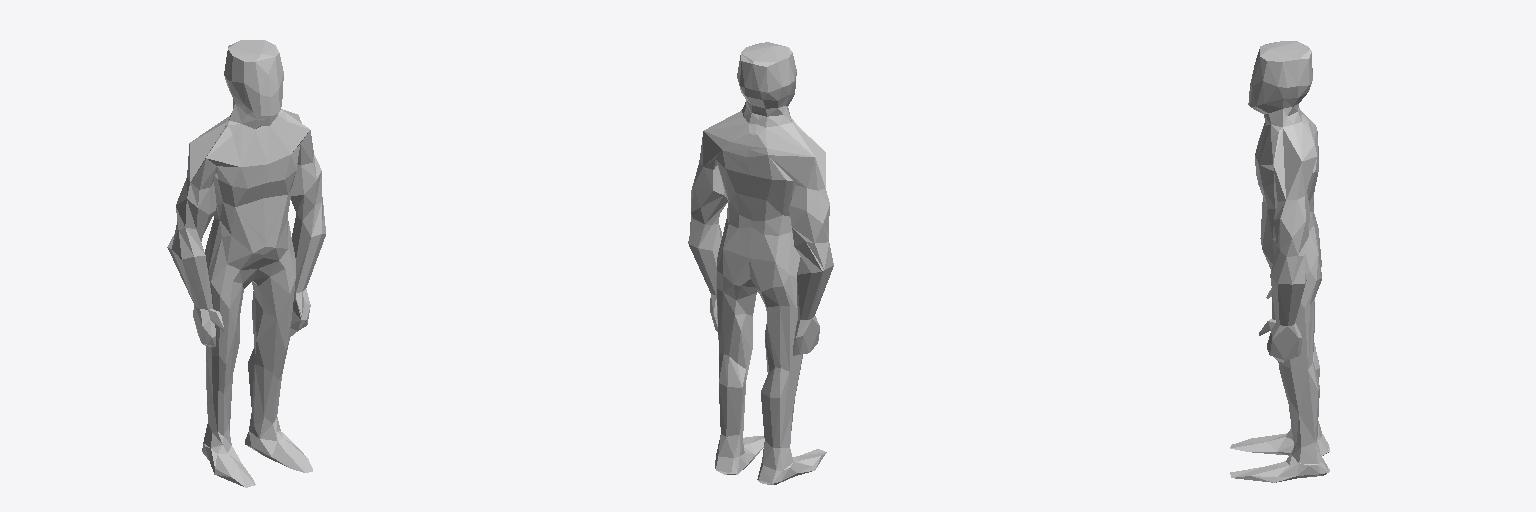
File: goodman_idle.obj
The picture shows the model from 3 angles: view 1: azimuth 30°, elevation 25°; view 2: azimuth 150°, elevation 25°; view 3: azimuth 270°, elevation 25°; orthographic projection.
Parts seen in each view (by area): view 1: body_mesh_Sphere; view 2: body_mesh_Sphere; view 3: body_mesh_Sphere.
Boxes of the visible parts, <box> form: body_mesh_Sphere: <box>167,40,325,487</box>; body_mesh_Sphere: <box>688,42,833,484</box>; body_mesh_Sphere: <box>1230,41,1329,482</box>.
Size of the model in its own units: 5.54 by 15.2 by 3.36.